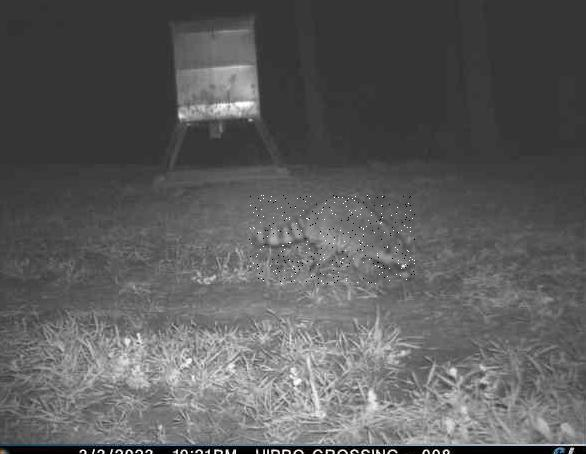Raccoon: (249, 196, 415, 285)
